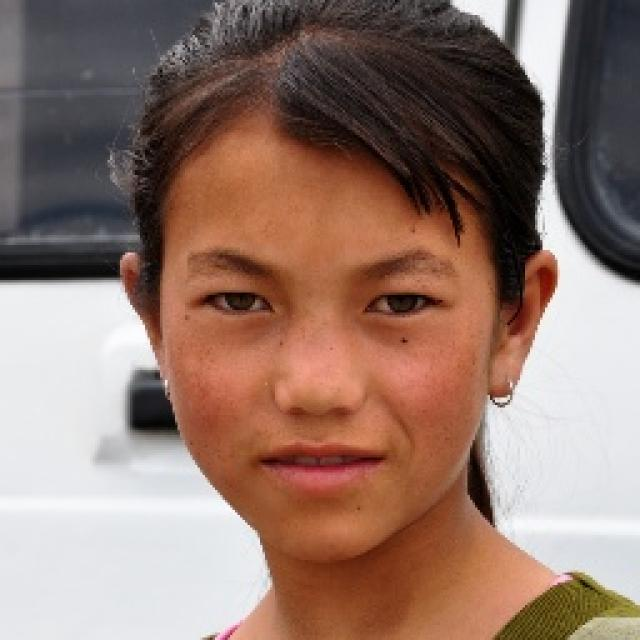earlobe: (490, 366, 519, 400), (154, 373, 172, 401)
eye: (202, 282, 272, 323), (368, 288, 444, 321)
nose: (272, 403, 366, 435)
wholeear: (487, 249, 557, 404), (118, 255, 172, 400)
